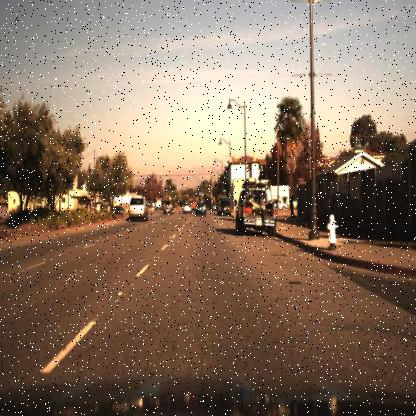car: (233, 179, 280, 238), (122, 184, 150, 222), (163, 194, 180, 218), (192, 198, 210, 220), (215, 196, 233, 218), (184, 197, 196, 217)
